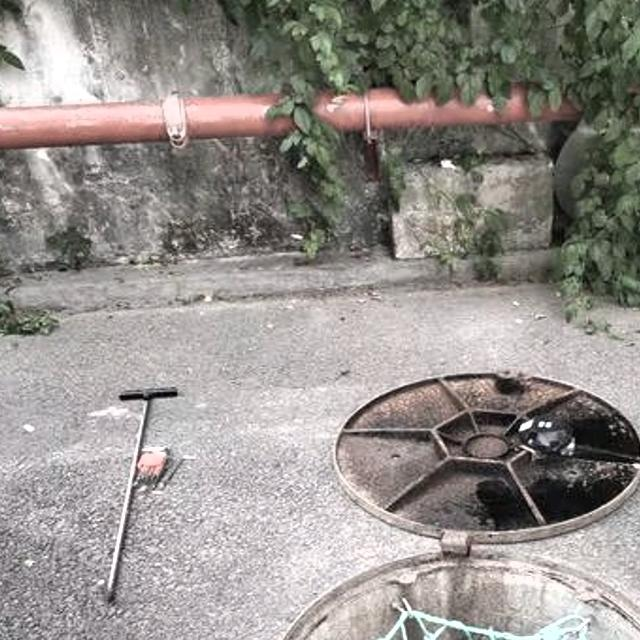uncovered: (216, 341, 640, 640)
